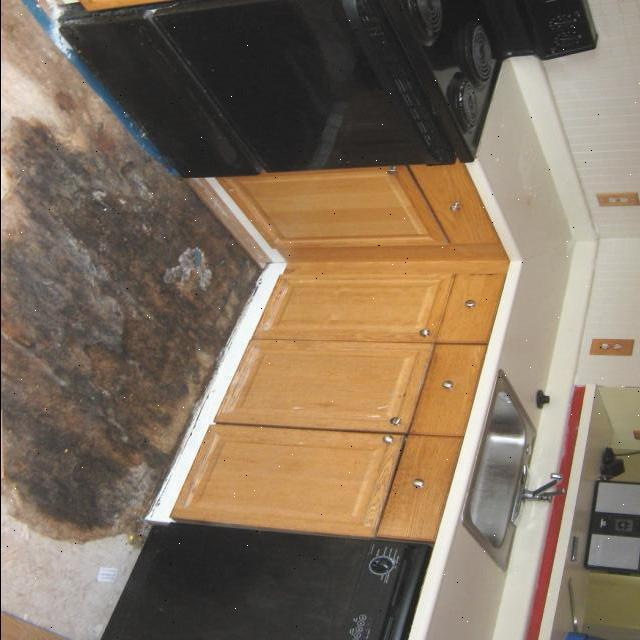dampens: (24, 35, 244, 533)
